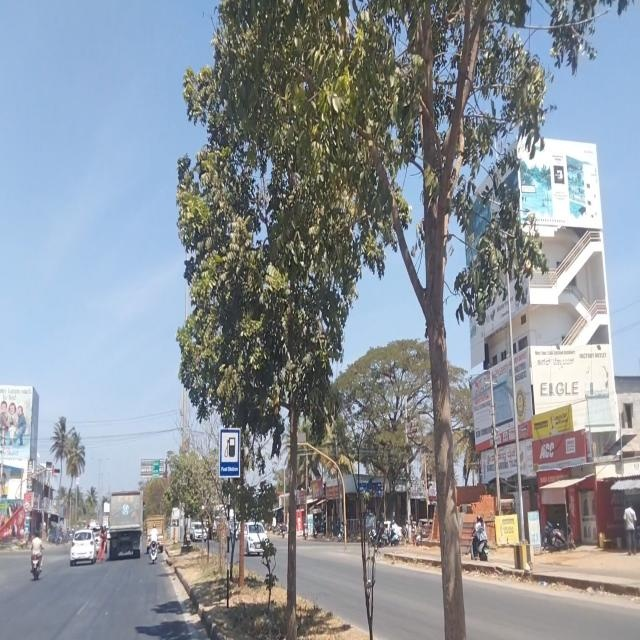bien_nguy_hiem: (216, 427, 242, 481)
